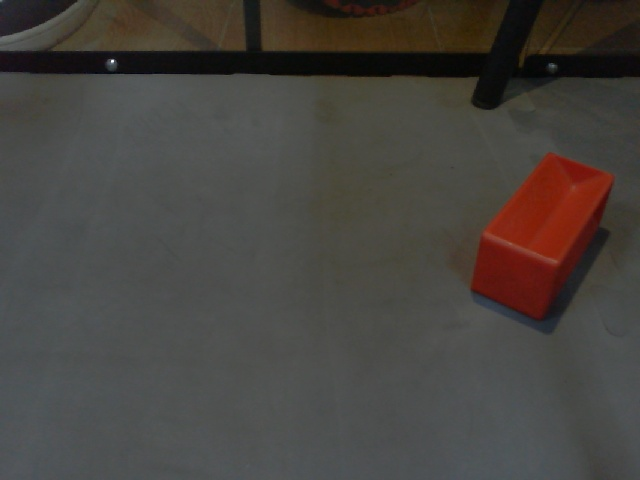RedSample: (468, 153, 616, 321)
